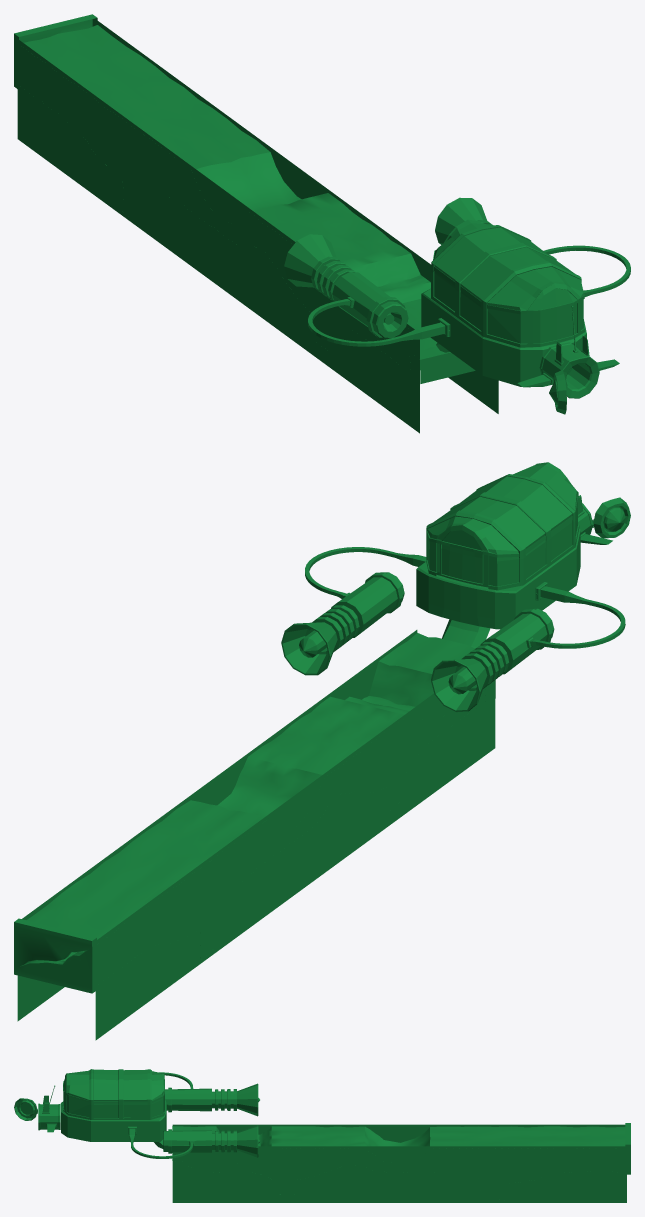
File: tutorial-test.fbx
The picture shows the model from 3 angles, top to bottom: view 1: azimuth 30°, elevation 25°; view 2: azimuth 150°, elevation 25°; view 3: azimuth 270°, elevation 25°; orthographic projection. The views are drawn at different scales.
Parts seen in each view (by area): view 1: Plane; view 2: Plane; view 3: Plane.
Part boxes in pixels (x1,y1,x2,y2): Plane: (14,14,630,433); Plane: (14,462,630,1040); Plane: (14,1069,630,1202).
Size of the model in its own units: 3918 by 2559 by 12033.
